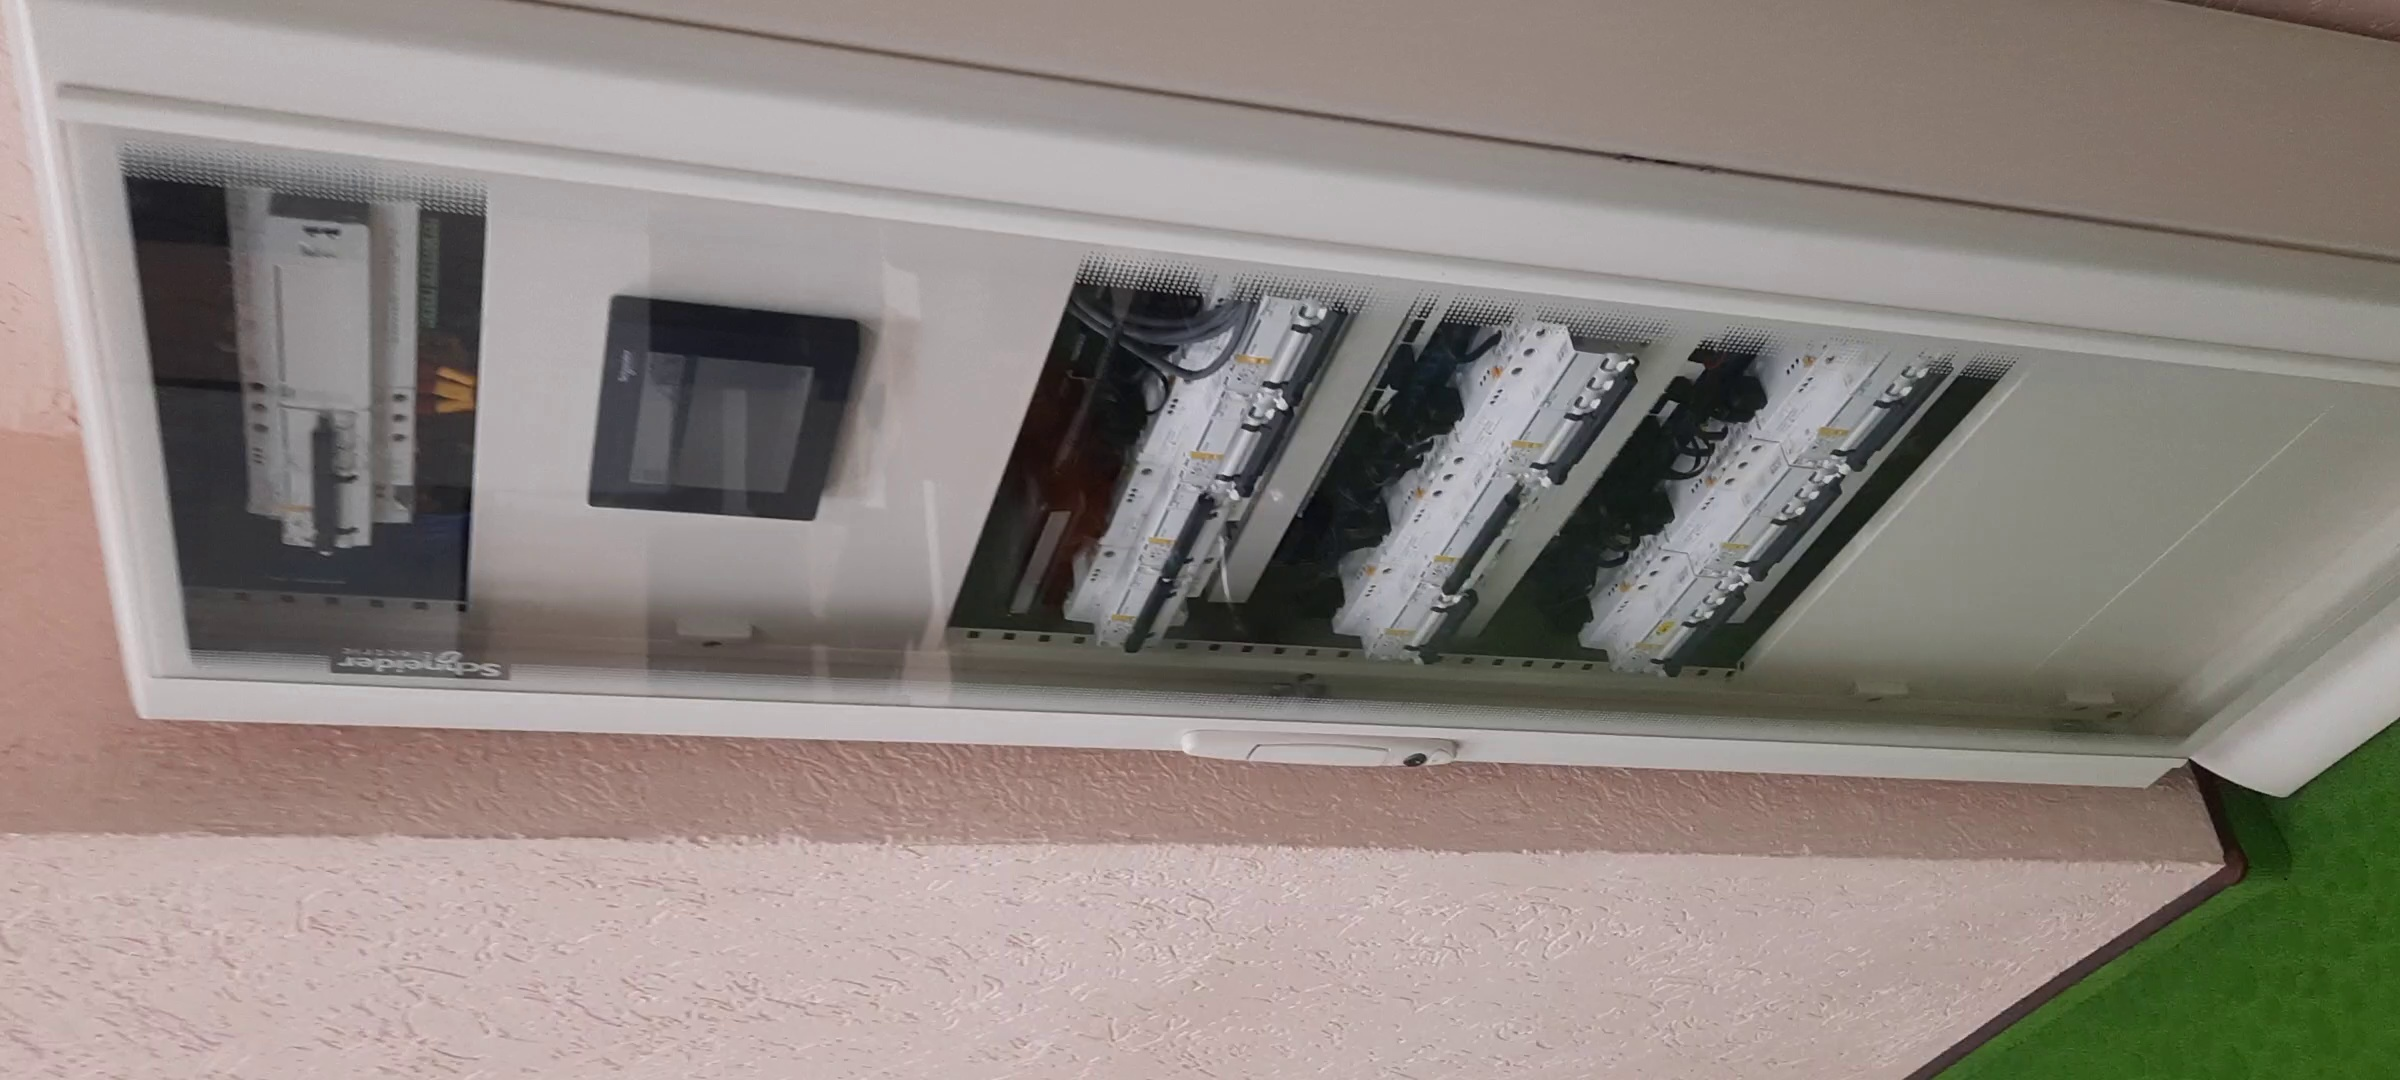smart_stand: (47, 2, 2400, 763)
